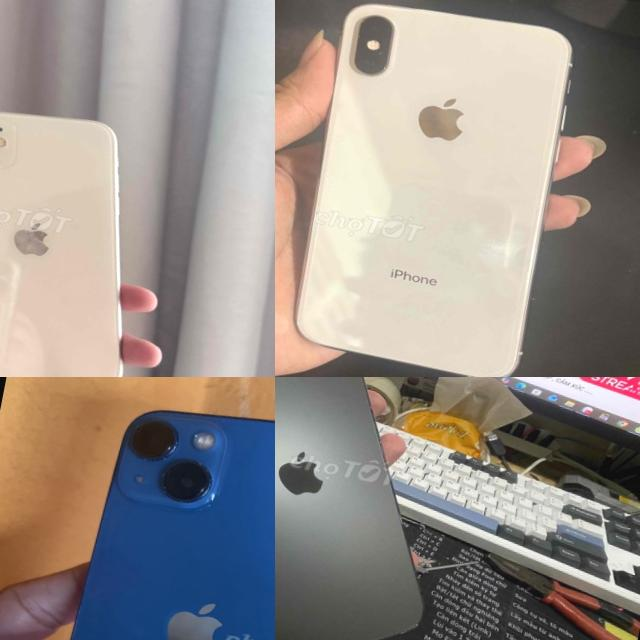scratch: (352, 15, 376, 28), (381, 62, 398, 79), (350, 30, 364, 44)
